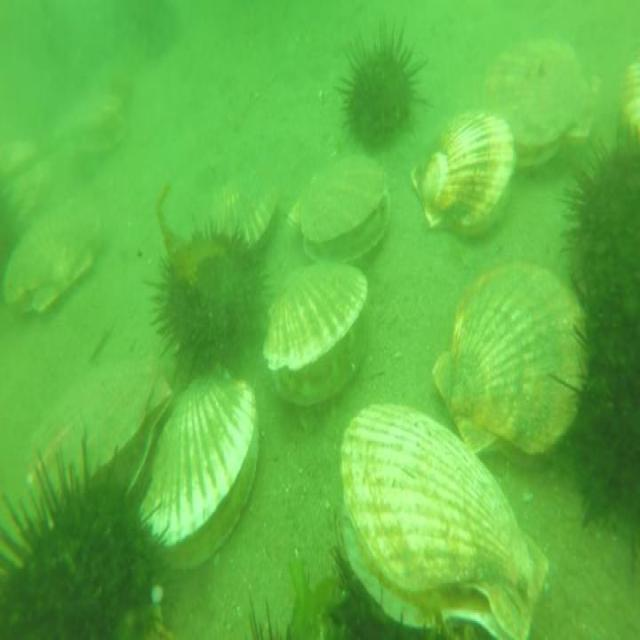echinus: (2, 450, 176, 640), (148, 220, 272, 378), (570, 279, 640, 543), (563, 114, 640, 324), (338, 22, 431, 158), (125, 0, 183, 60)
scallop: (337, 395, 550, 640), (429, 253, 591, 469), (146, 362, 260, 575), (21, 349, 171, 506), (480, 30, 608, 175), (263, 258, 374, 412), (406, 108, 516, 244), (2, 191, 106, 324), (290, 153, 394, 261), (44, 96, 134, 166), (205, 164, 278, 250)
